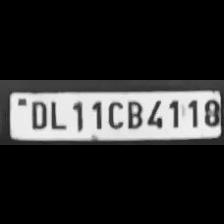1: (68, 97, 86, 131), (86, 96, 104, 130), (164, 96, 182, 128), (182, 96, 200, 128)
4: (144, 96, 164, 128)
8: (200, 96, 220, 127)
B: (123, 97, 143, 129)
C: (104, 97, 124, 129)
D: (26, 97, 48, 129)
L: (47, 96, 66, 130)
